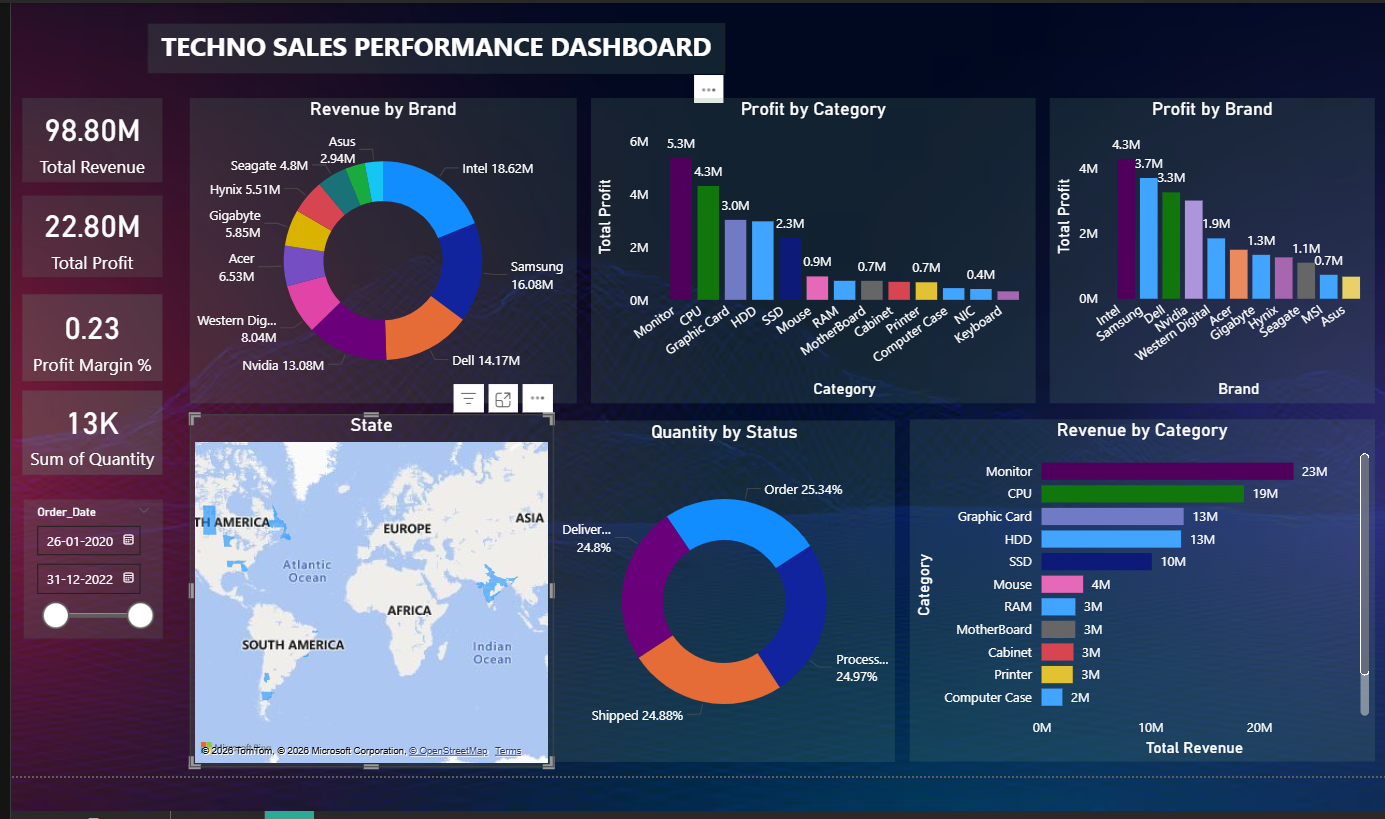

This screenshot's page, from the dashboard's own definition file:
{"tool":"powerbi","page":{"name":"Page 1","canvas":[1280,720],"ordinal":0},"visuals":[{"type":"card","fields":{"Values":["Complete_Techno_Sales_Data-2 xlsx - Sales_Data.Total Revenue"]},"box":[10.3,88.5,130.8,78.2],"z":0},{"type":"card","fields":{"Values":["Complete_Techno_Sales_Data-2 xlsx - Sales_Data.Total Profit"]},"box":[10.3,179.5,130.8,75.6],"z":1000},{"type":"card","fields":{"Values":["Complete_Techno_Sales_Data-2 xlsx - Sales_Data.Profit Margin %"]},"box":[10.3,270.5,130.8,80.8],"z":2000},{"type":"card","fields":{"Values":["Sum(Complete_Techno_Sales_Data-2 xlsx - Sales_Data.Quantity)"]},"box":[10.3,360.3,130.8,78.2],"z":3000},{"type":"clusteredBarChart","title":" Revenue by Category","fields":{"Category":["Complete_Techno_Sales_Data-2 xlsx - Sales_Data.Category"],"Y":["Complete_Techno_Sales_Data-2 xlsx - Sales_Data.Total Revenue"]},"box":[836.2,387.5,432.5,318.8],"z":4000},{"type":"donutChart","title":"Revenue by Brand","fields":{"Category":["Complete_Techno_Sales_Data-2 xlsx - Sales_Data.Brand"],"Y":["Complete_Techno_Sales_Data-2 xlsx - Sales_Data.Total Revenue"]},"box":[166.2,88.8,360,283.8],"z":5000},{"type":"filledMap","fields":{"Category":["Complete_Techno_Sales_Data-2 xlsx - Sales_Data.State"]},"box":[166.7,382.1,338.5,329.5],"z":6000},{"type":"slicer","fields":{"Values":["Complete_Techno_Sales_Data-2 xlsx - Sales_Data.Order_Date"]},"box":[11.5,461.5,129.5,129.5],"z":7000},{"type":"textbox","box":[126.2,18.8,537.5,47.5],"z":8000},{"type":"donutChart","title":"Quantity by Status","fields":{"Category":["Complete_Techno_Sales_Data-2 xlsx - Sales_Data.Status"],"Y":["Sum(Complete_Techno_Sales_Data-2 xlsx - Sales_Data.Quantity)"]},"box":[505.1,388.5,317.9,317.9],"z":9000},{"type":"columnChart","title":"Profit by Category","fields":{"Category":["Complete_Techno_Sales_Data-2 xlsx - Sales_Data.Category"],"Y":["Complete_Techno_Sales_Data-2 xlsx - Sales_Data.Total Profit"]},"box":[540,88.8,413.8,283.8],"z":10000},{"type":"clusteredColumnChart","title":" Profit by Brand","fields":{"Category":["Complete_Techno_Sales_Data-2 xlsx - Sales_Data.Brand"],"Y":["Complete_Techno_Sales_Data-2 xlsx - Sales_Data.Total Profit"]},"box":[966.2,88.8,302.5,283.8],"z":11000}]}

Visuals, with their boxes on the page's 1280x720 design canvas (x1, y1, x2, y2). These are canvas units, not pixel positions in the 1385x819 screenshot, which may show the page scaled, cropped or inside an application window:
card - Complete_Techno_Sales_Data-2 xlsx - Sales_Data.Total Revenue: {"left": 10, "top": 88, "right": 141, "bottom": 167}
card - Complete_Techno_Sales_Data-2 xlsx - Sales_Data.Total Profit: {"left": 10, "top": 180, "right": 141, "bottom": 255}
card - Complete_Techno_Sales_Data-2 xlsx - Sales_Data.Profit Margin %: {"left": 10, "top": 270, "right": 141, "bottom": 351}
card - Sum(Complete_Techno_Sales_Data-2 xlsx - Sales_Data.Quantity): {"left": 10, "top": 360, "right": 141, "bottom": 438}
" Revenue by Category" clusteredBarChart: {"left": 836, "top": 388, "right": 1269, "bottom": 706}
"Revenue by Brand" donutChart: {"left": 166, "top": 89, "right": 526, "bottom": 373}
filledMap - Complete_Techno_Sales_Data-2 xlsx - Sales_Data.State: {"left": 167, "top": 382, "right": 505, "bottom": 712}
slicer - Complete_Techno_Sales_Data-2 xlsx - Sales_Data.Order_Date: {"left": 12, "top": 462, "right": 141, "bottom": 591}
textbox: {"left": 126, "top": 19, "right": 664, "bottom": 66}
"Quantity by Status" donutChart: {"left": 505, "top": 388, "right": 823, "bottom": 706}
"Profit by Category" columnChart: {"left": 540, "top": 89, "right": 954, "bottom": 373}
" Profit by Brand" clusteredColumnChart: {"left": 966, "top": 89, "right": 1269, "bottom": 373}
